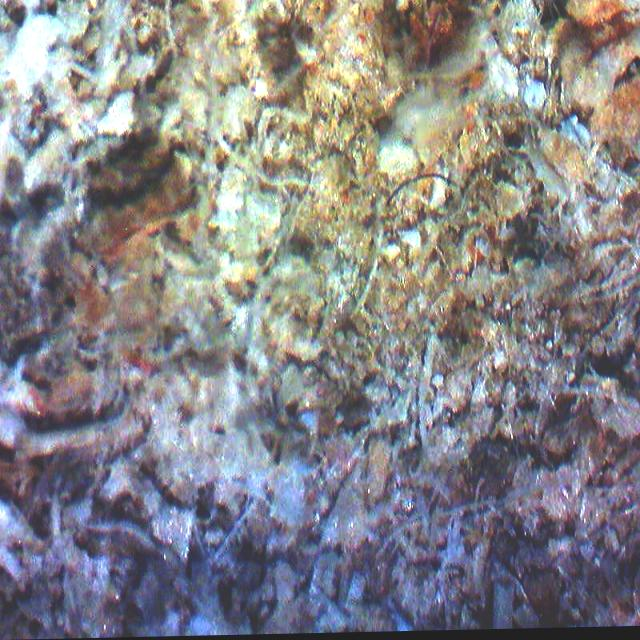microplastic: (380, 170, 454, 208)
